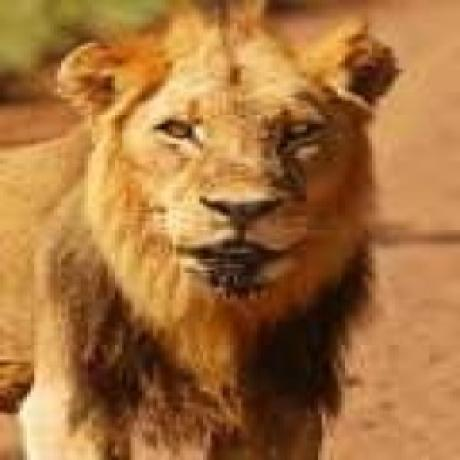Lion: (0, 1, 406, 460)
